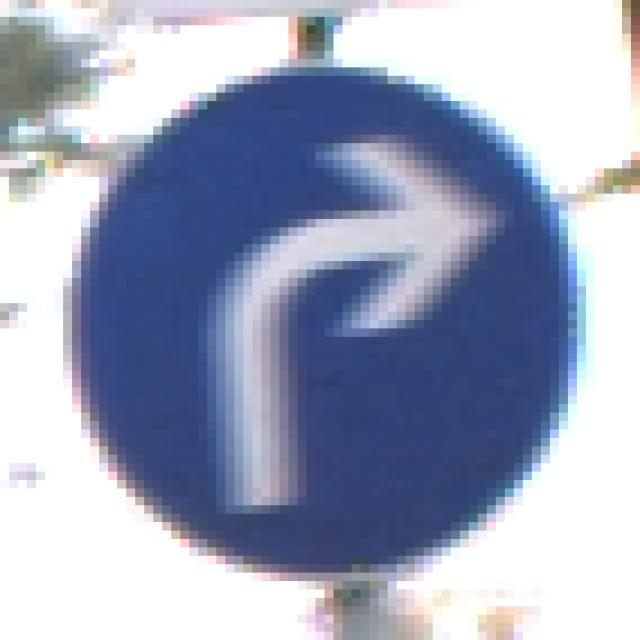compulsary turn right ahead: (58, 54, 591, 585)
